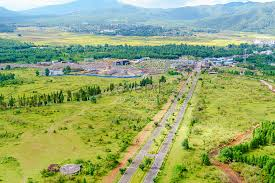field: (10, 47, 272, 181)
mountain: (4, 4, 270, 46)
